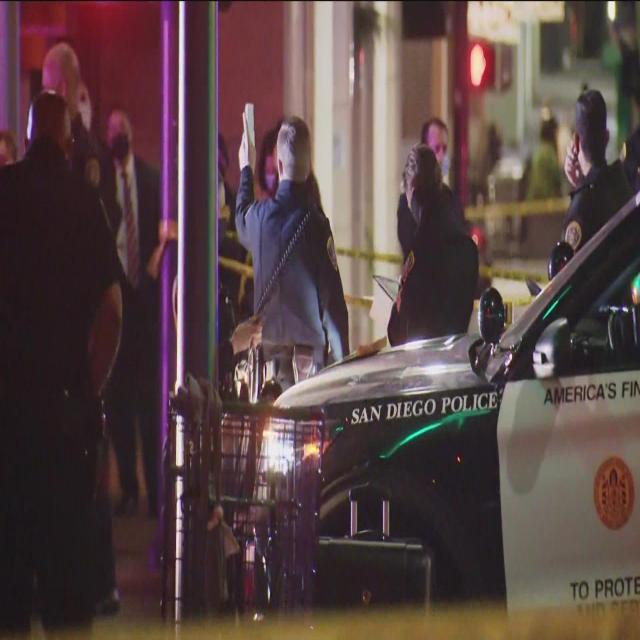police: (0, 92, 122, 640), (223, 105, 370, 424), (508, 85, 640, 340), (380, 141, 474, 373)
